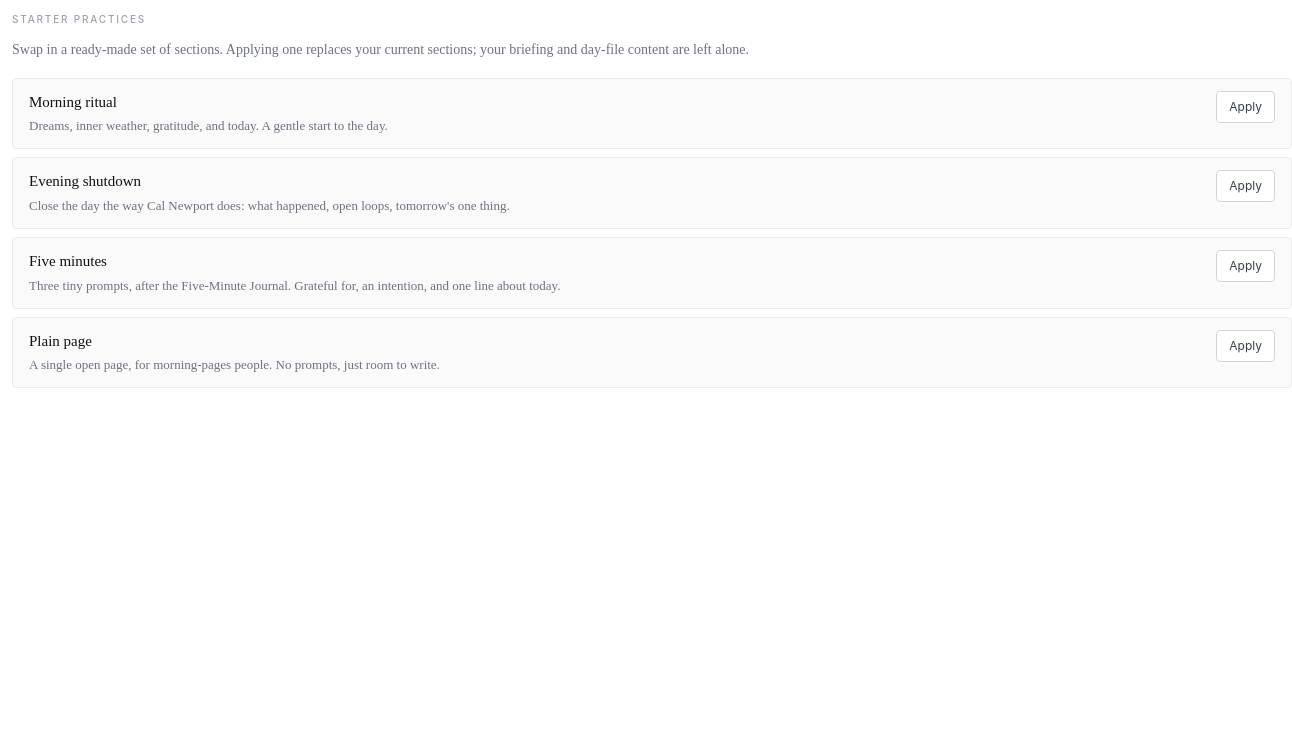
Scenario: PresetSection › warns before overwriting and does not apply until confirmed
Click the button "Apply" in the row of "Morning ritual" at (1246, 107), box [1216,91,1275,123]
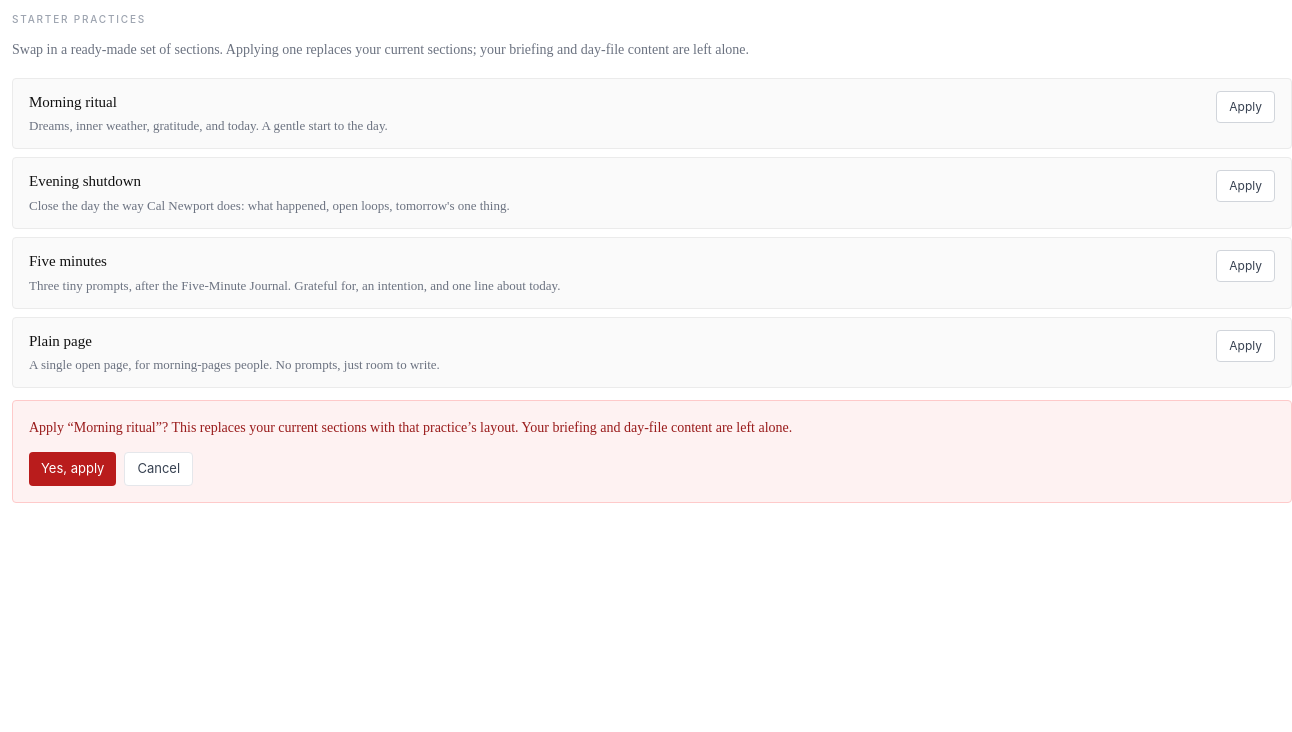
Result: the text "that practice" is shown at [156,420,792,435]
